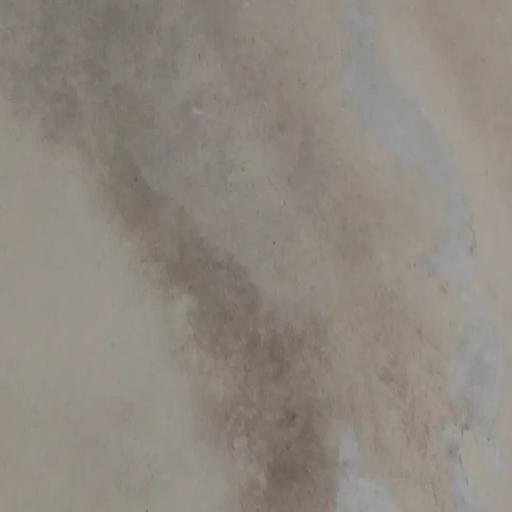stain: (72, 124, 368, 509)
